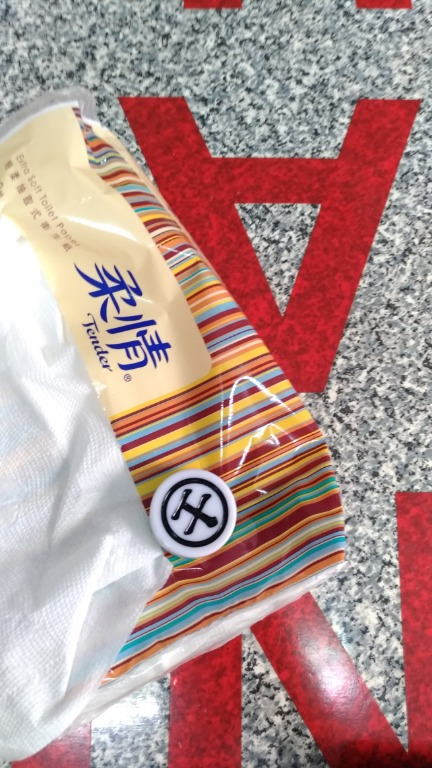b-advisor: (124, 460, 268, 579)
